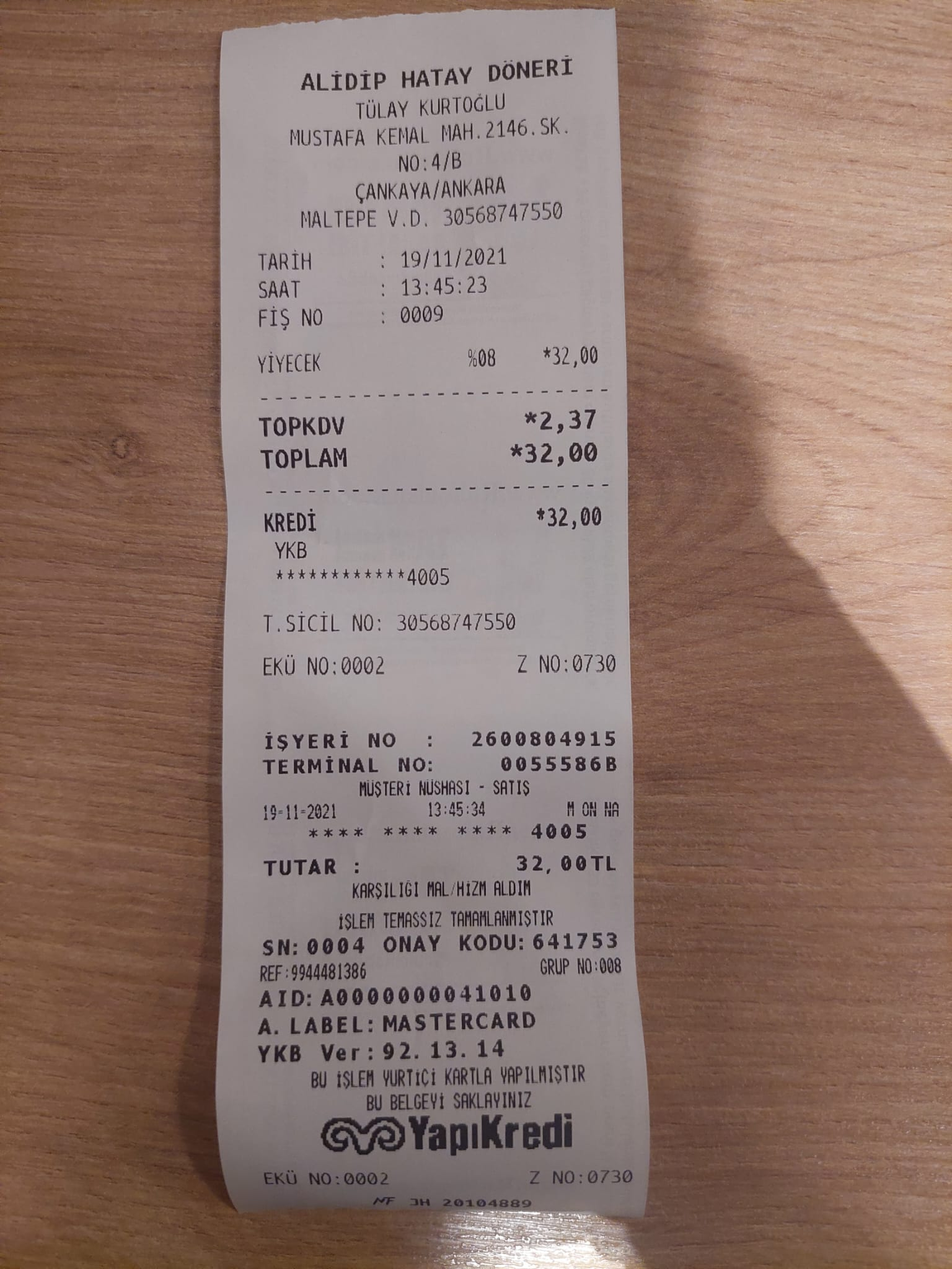date: (520, 432, 609, 472)
price: (397, 241, 514, 274)
workplace: (281, 50, 584, 204)
